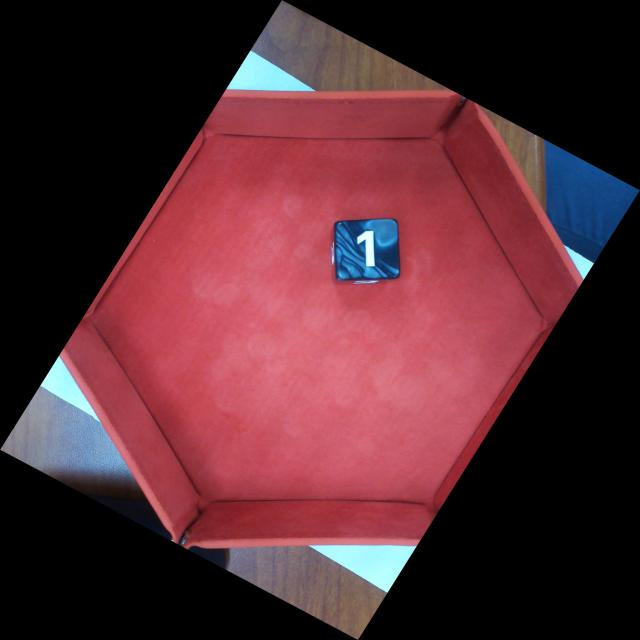dice: (335, 219, 399, 281)
